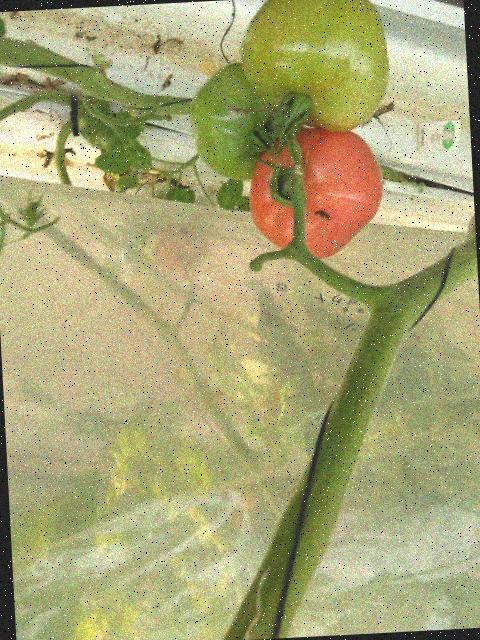b_fully_ripened: (246, 124, 387, 264)
b_green: (237, 0, 392, 137), (185, 60, 293, 183)
